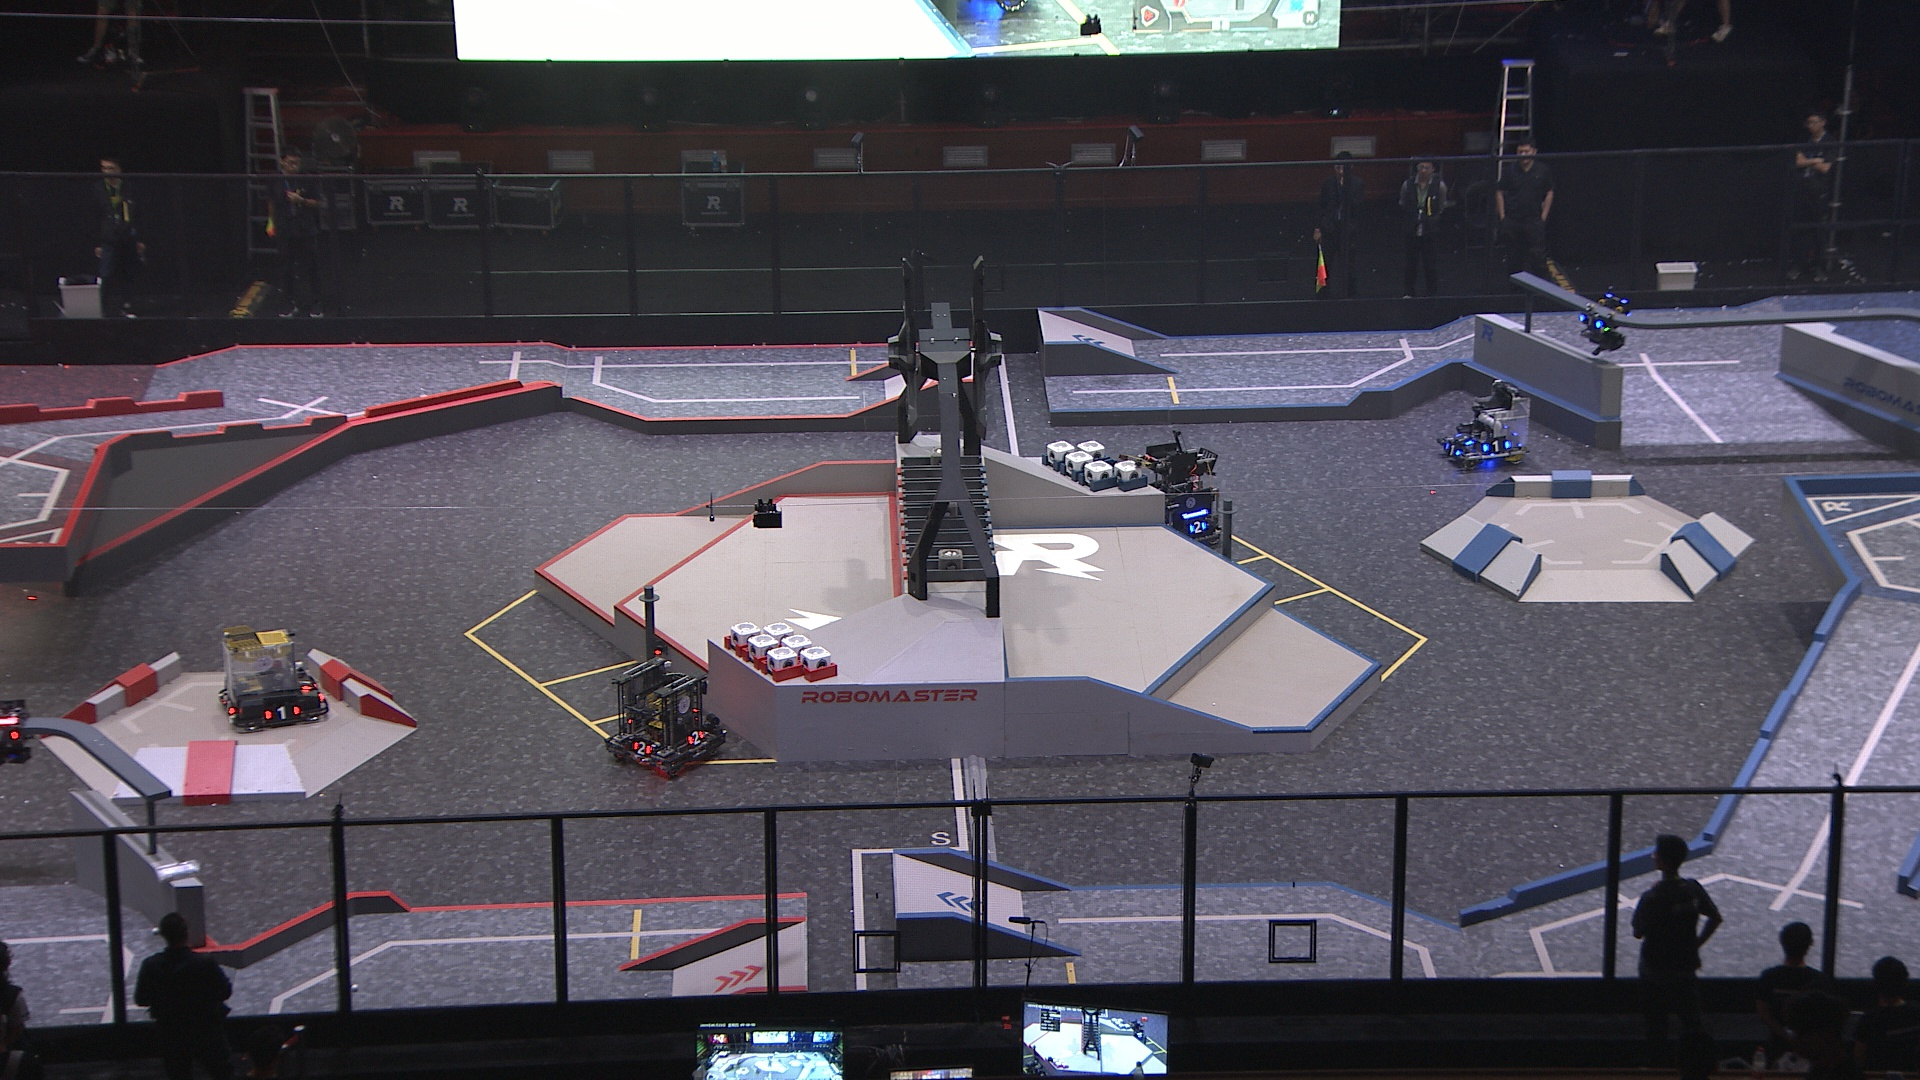armor: (264, 704, 299, 723), (1577, 311, 1604, 330), (1485, 440, 1513, 455), (218, 695, 235, 717), (629, 740, 651, 757), (1441, 440, 1462, 458), (0, 728, 20, 745), (295, 674, 311, 695), (1453, 433, 1476, 447), (1189, 517, 1207, 535), (688, 731, 705, 745)
car: (604, 655, 732, 778), (214, 622, 332, 732), (1134, 442, 1226, 547), (1433, 376, 1532, 471)
watcher: (1575, 286, 1634, 357)
